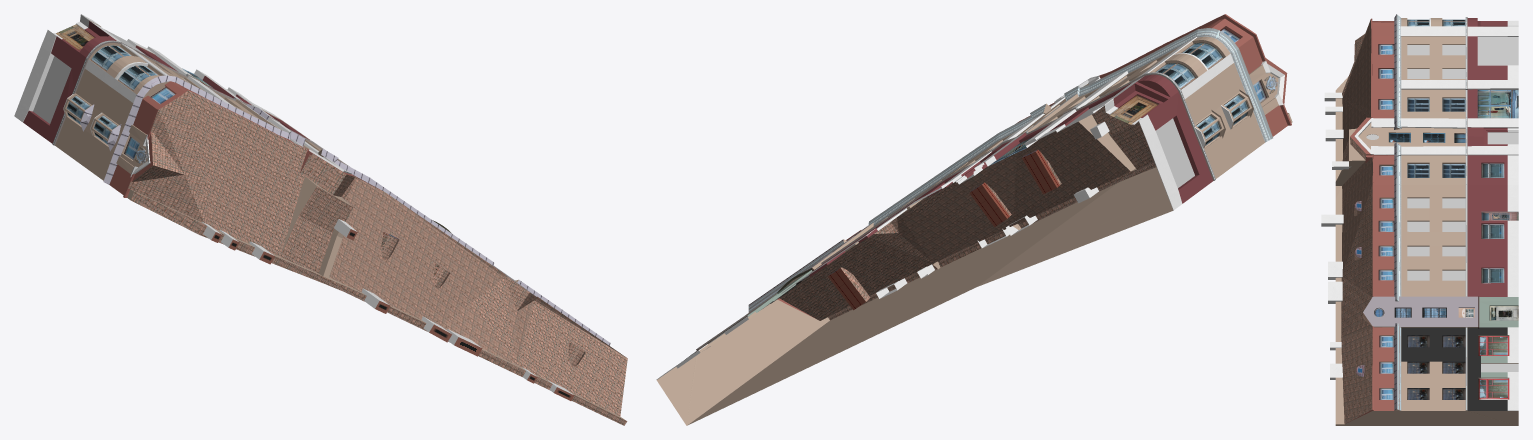
File: Harju_3.obj
The picture shows the model from 3 angles, left to right: view 1: azimuth 30°, elevation 25°; view 2: azimuth 150°, elevation 25°; view 3: azimuth 270°, elevation 25°; orthographic projection. The views are drawn at different scales.
Parts seen in each view (by area): view 1: default; view 2: default; view 3: default.
Part boxes in pixels (x1,y1,x2,y2): default: [14, 14, 627, 425]; default: [656, 14, 1292, 425]; default: [1321, 14, 1518, 425].
Size of the model in its own units: 36.82 by 29.01 by 18.84.
